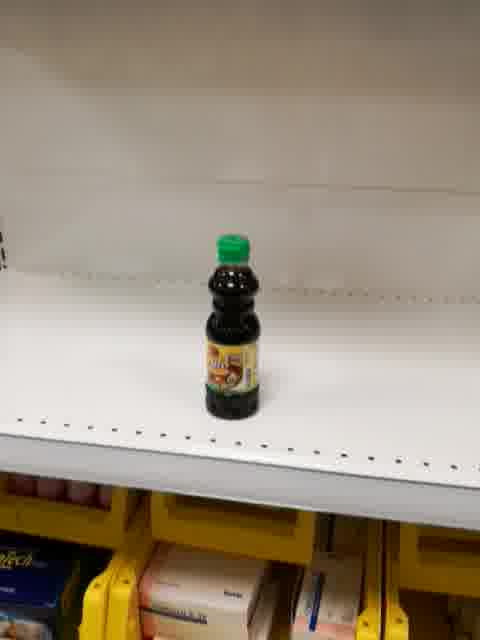cookingoil: (201, 228, 264, 423)
